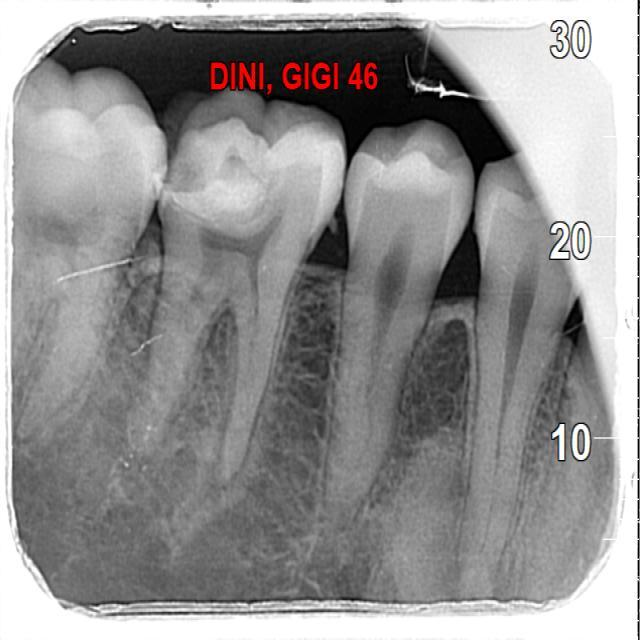individual-tooth-8tto: (129, 79, 352, 490), (328, 118, 479, 524)
